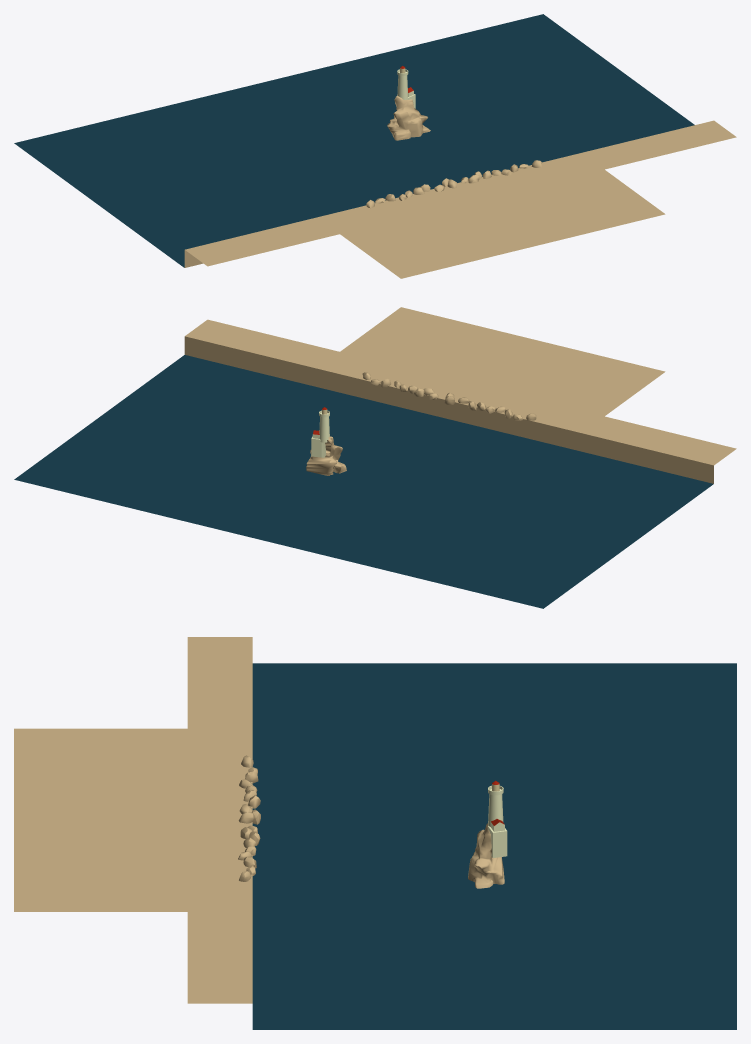
File: light house.glb
3 views of the same model, one above another, from view 1: azimuth 30°, elevation 25°; view 2: azimuth 150°, elevation 25°; view 3: azimuth 270°, elevation 25° (orthographic). The views are drawn at different scales.
Parts seen in each view (by area): view 1: ocean, ground, base, rocks; view 2: ocean, ground, rocks, base, house; view 3: ocean, ground, rocks, base, house.
Part boxes in pixels (x1=…): ocean: x1=14, y1=14, x2=694, y2=267; ground: x1=184, y1=120, x2=736, y2=278; base: x1=387, y1=95, x2=430, y2=140; rocks: x1=366, y1=160, x2=541, y2=208; ocean: x1=14, y1=355, x2=713, y2=608; ground: x1=184, y1=307, x2=736, y2=483; rocks: x1=362, y1=372, x2=536, y2=420; base: x1=306, y1=436, x2=346, y2=475; house: x1=311, y1=407, x2=329, y2=457; ocean: x1=252, y1=663, x2=736, y2=1029; ground: x1=14, y1=637, x2=252, y2=1003; rocks: x1=238, y1=755, x2=260, y2=881; base: x1=468, y1=823, x2=504, y2=888; house: x1=488, y1=780, x2=507, y2=857.
Bounding box in the file's own units: 120 × 14.43 × 100.
Materials: 1 (1 with a texture image).
